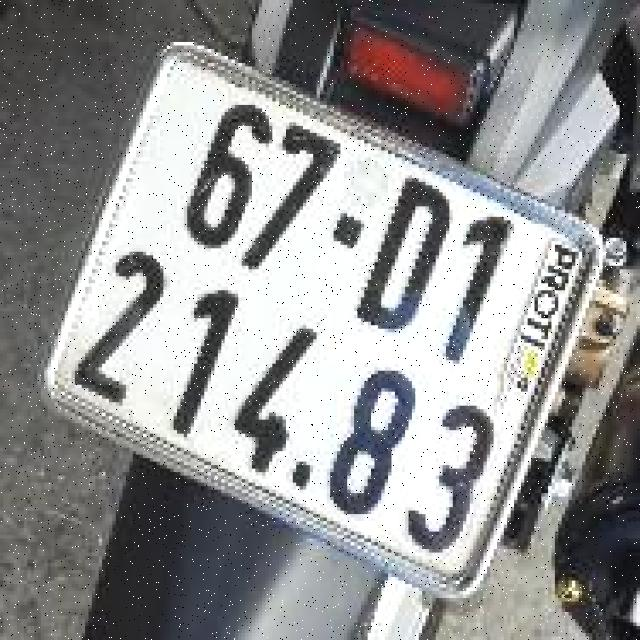1: (416, 202, 521, 376), (151, 272, 247, 444)
2: (61, 233, 182, 413)
3: (395, 388, 504, 565)
4: (217, 301, 330, 485)
6: (167, 91, 283, 264)
7: (228, 112, 351, 290)
8: (315, 352, 426, 528)
D: (345, 162, 463, 347)
